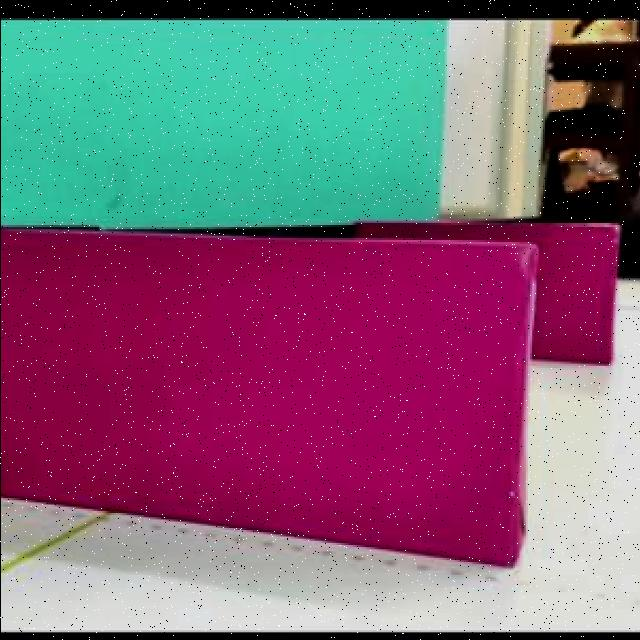xparking: (1, 245, 520, 568), (540, 223, 614, 362)
